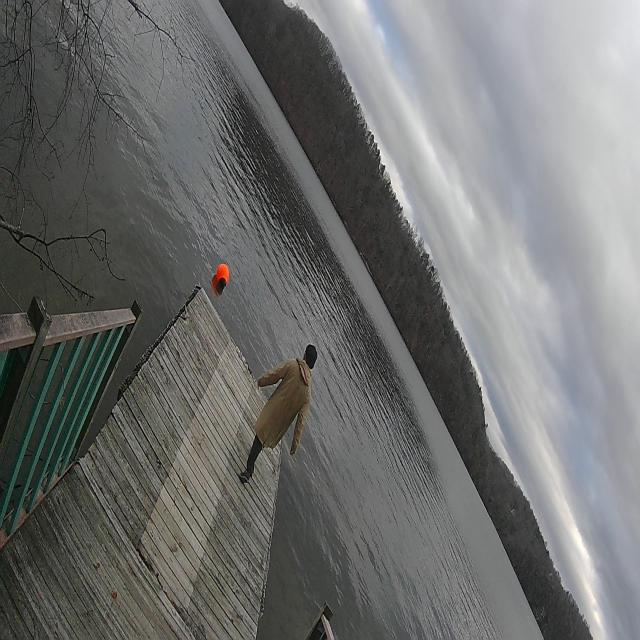Buoy: (214, 260, 230, 294)
